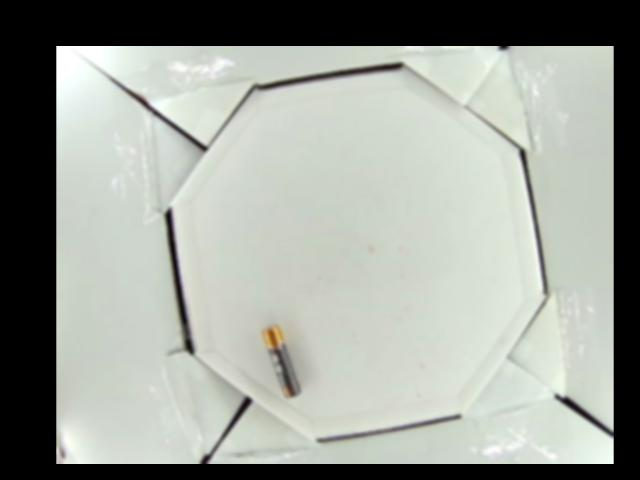Battery: (263, 323, 301, 401)
